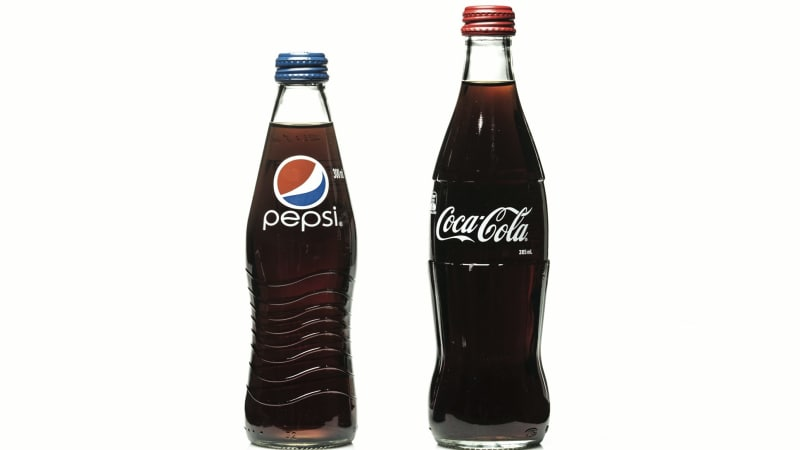pepsi: (275, 154, 325, 207)
